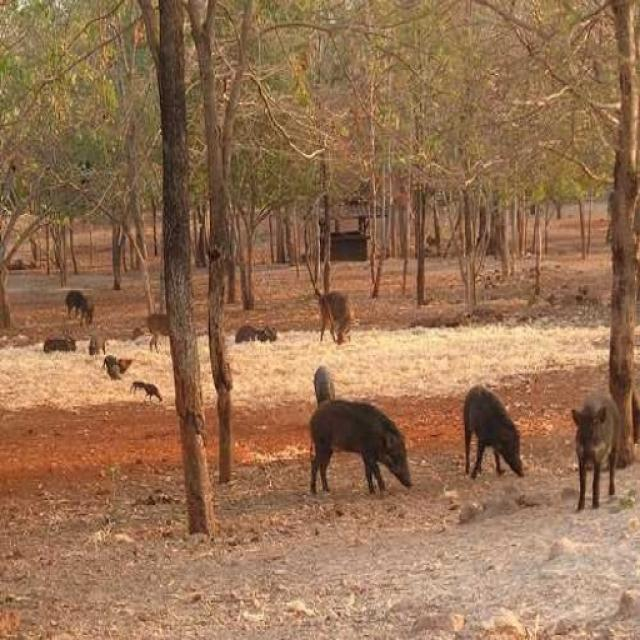pig: (293, 370, 420, 488), (431, 376, 527, 486), (542, 398, 628, 514), (296, 278, 359, 334), (61, 282, 110, 313), (243, 314, 269, 357), (44, 330, 78, 358), (136, 382, 161, 418), (161, 309, 179, 337), (90, 332, 111, 356), (106, 364, 131, 382)
